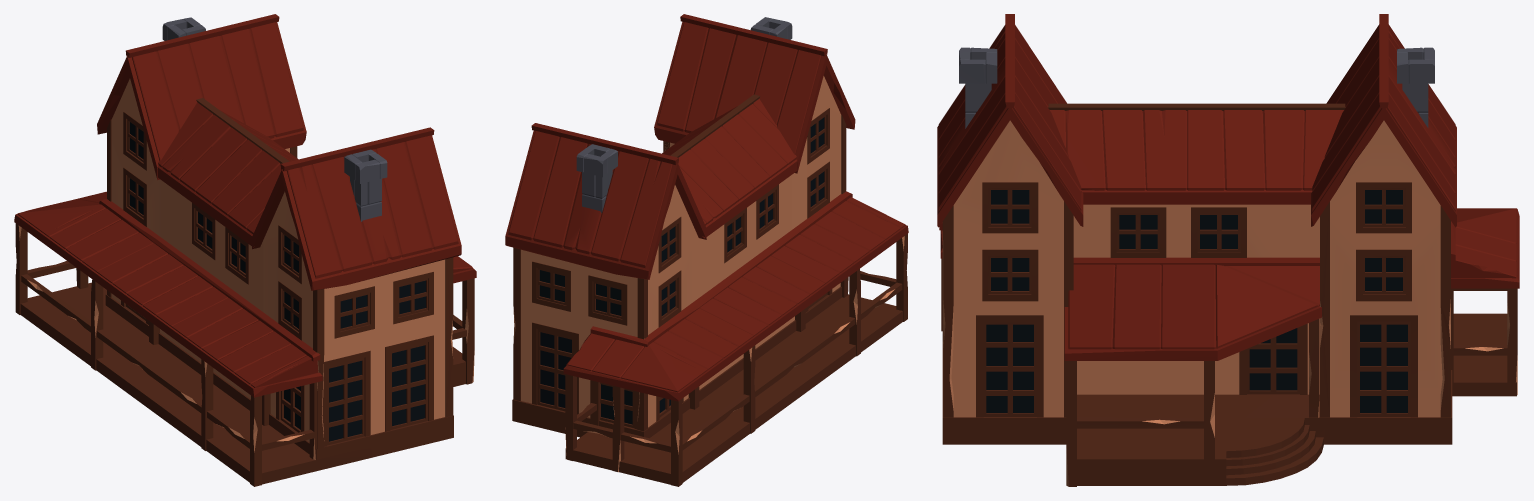
The model's file is House_7 1.fbx.
The picture shows the model from 3 angles, left to right: view 1: azimuth 30°, elevation 25°; view 2: azimuth 150°, elevation 25°; view 3: azimuth 270°, elevation 25°; orthographic projection. The views are drawn at different scales.
Visible parts, largest first — view 1: House_7_1; view 2: House_7_1; view 3: House_7_1.
Boxes of the visible parts, x1,y1,x2,y2 form: House_7_1: (14,14,476,486); House_7_1: (505,14,908,486); House_7_1: (937,14,1519,486).
Bounding box in the file's own units: 296 × 296 × 451.
